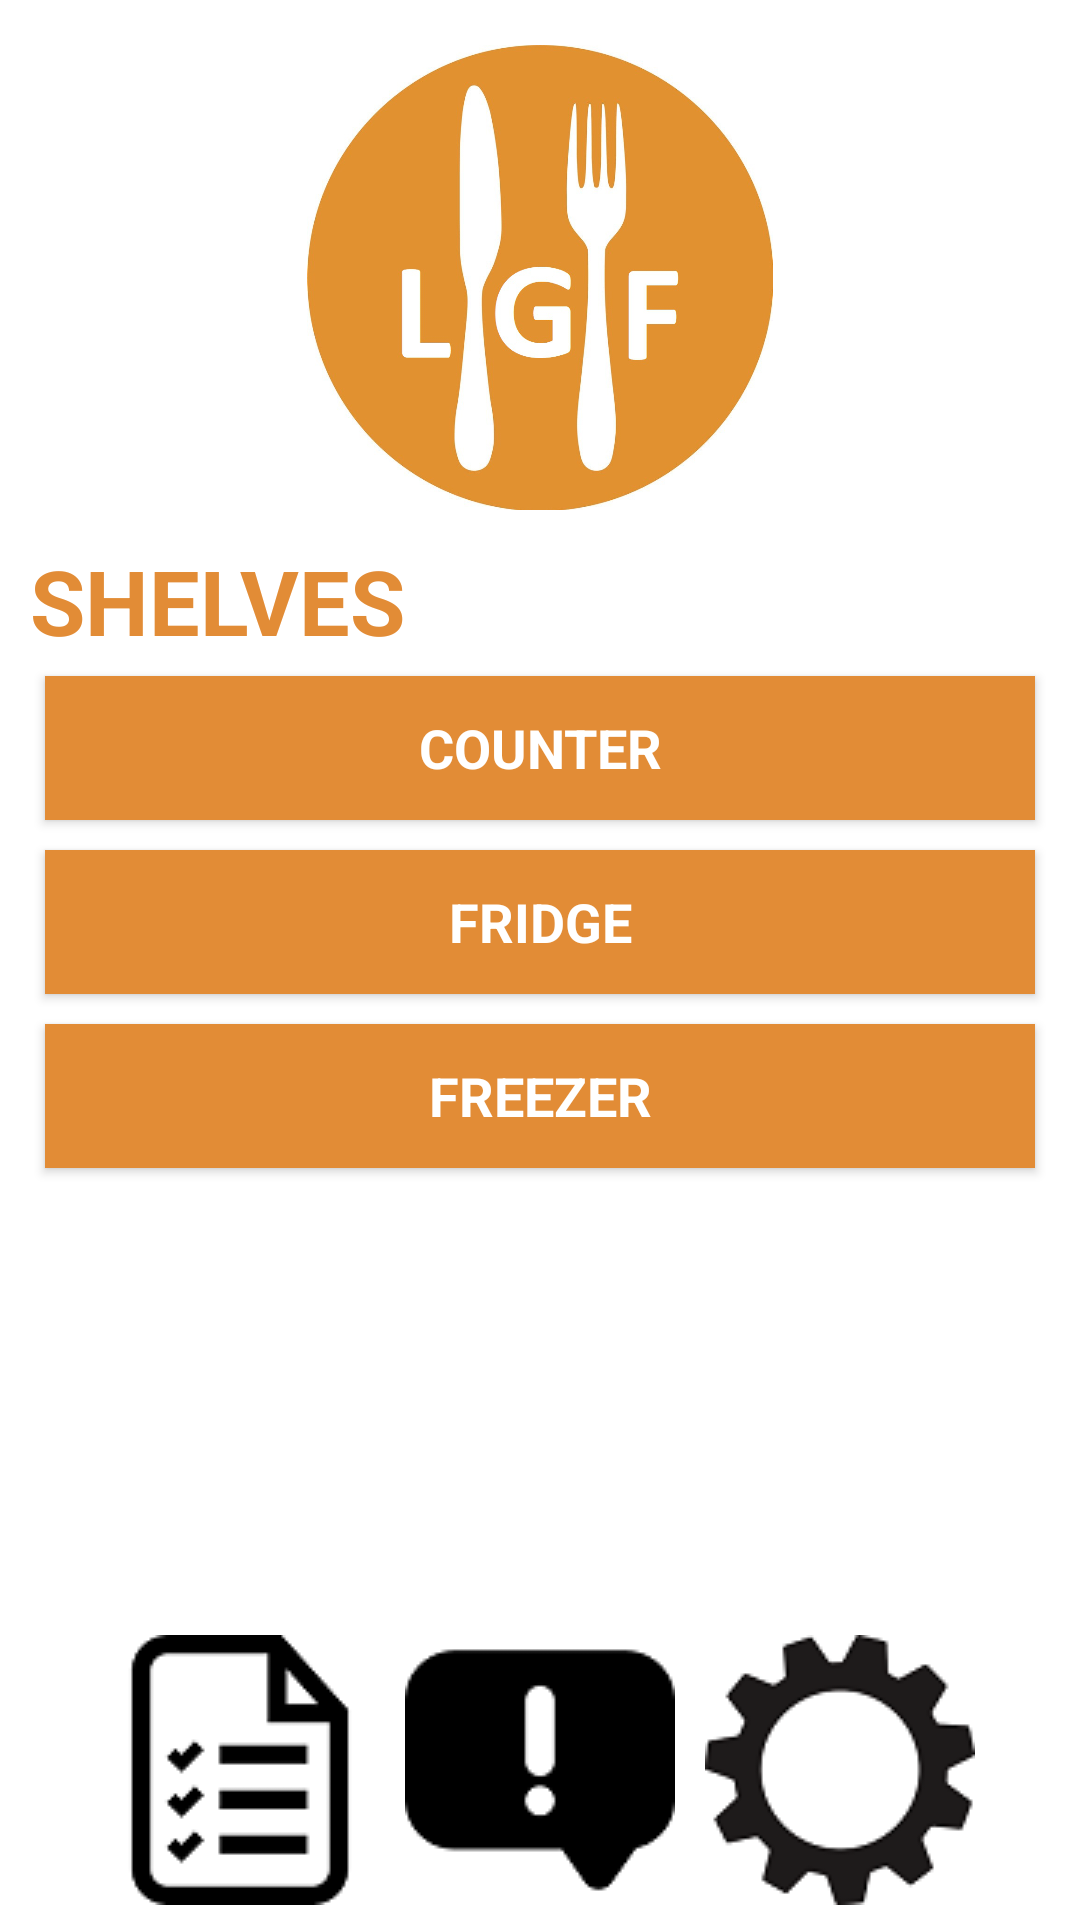

Icon click points for this 1080 x 1920 phone screenshot, format point (x, y):
alert: point (540, 1770)
settings gear: point (840, 1770)
